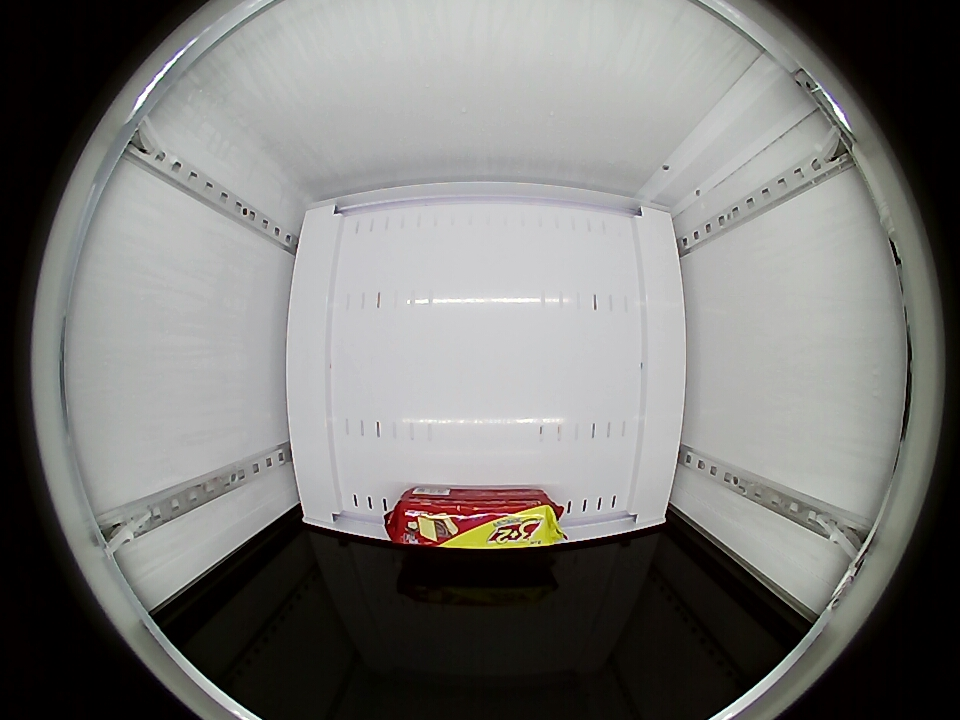3jia2: (389, 491, 562, 549)
